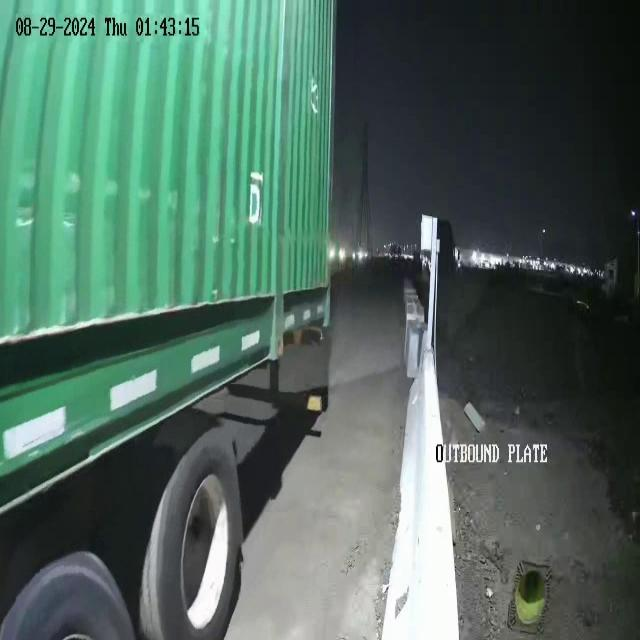TRUCK_CONTAINER: (0, 1, 338, 636)
